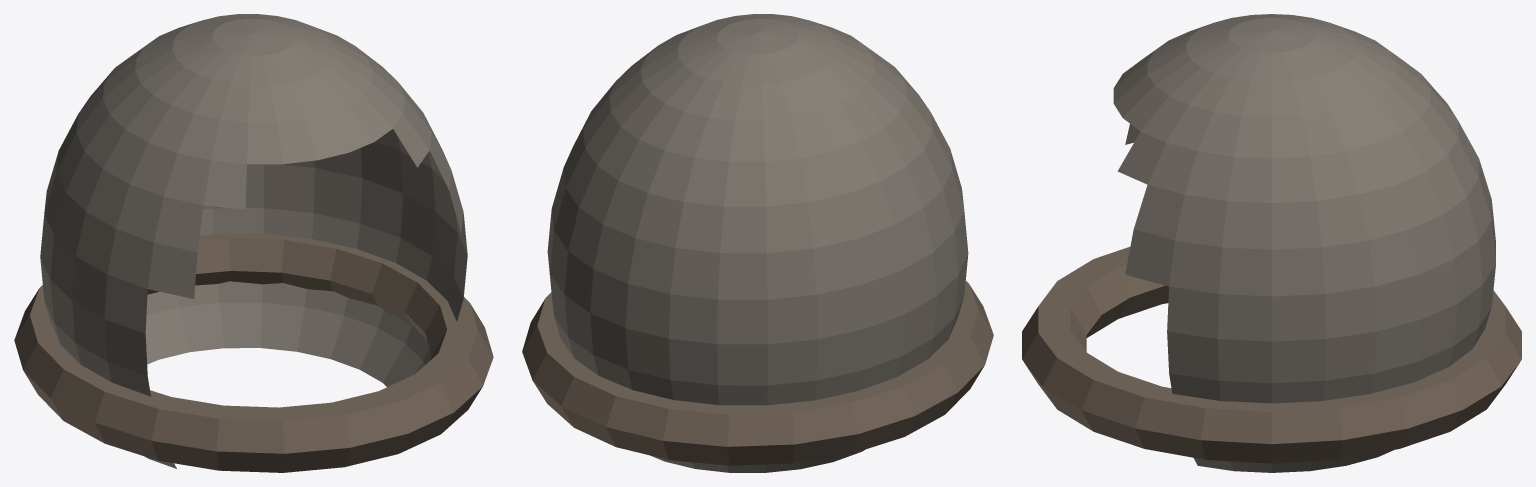
The model's file is Hood.fbx.
3 views of the same model, side by side, from view 1: azimuth 30°, elevation 25°; view 2: azimuth 150°, elevation 25°; view 3: azimuth 270°, elevation 25° (orthographic).
Parts seen in each view (by area): view 1: Hood; view 2: Hood; view 3: Hood.
Part boxes in pixels (x1,y1,x2,y2): Hood: (14, 14, 493, 472); Hood: (522, 14, 993, 472); Hood: (1022, 14, 1521, 472).
Bounding box in the file's own units: 15.64 × 14.01 × 16.72.
